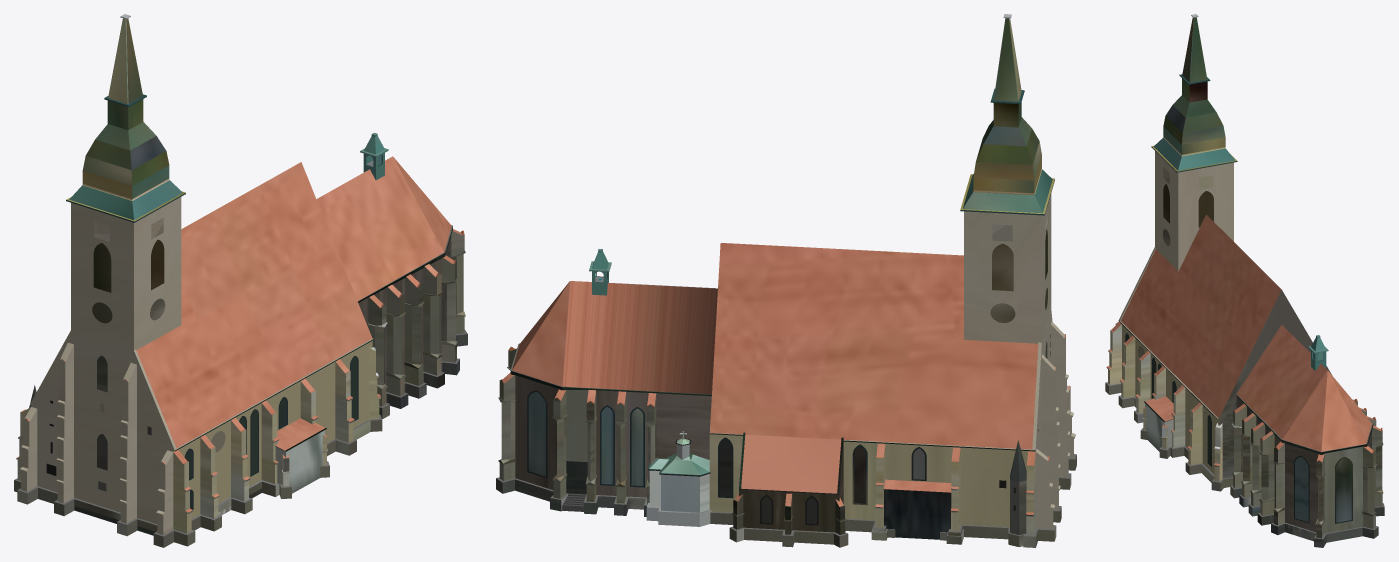
The model's file is svMartin.glb.
The picture shows the model from 3 angles, left to right: view 1: azimuth 30°, elevation 25°; view 2: azimuth 150°, elevation 25°; view 3: azimuth 270°, elevation 25°; orthographic projection. The views are drawn at different scales.
Visible parts, largest first — view 1: svMartin; view 2: svMartin; view 3: svMartin.
Part boxes in pixels (box(x1,y1,x2,y2)): svMartin: box(14, 14, 467, 547); svMartin: box(496, 14, 1076, 547); svMartin: box(1105, 14, 1384, 547).
Bounding box in the file's own units: 1.23 × 1.15 × 0.7784.
Materials: 116 (109 with a texture image).
